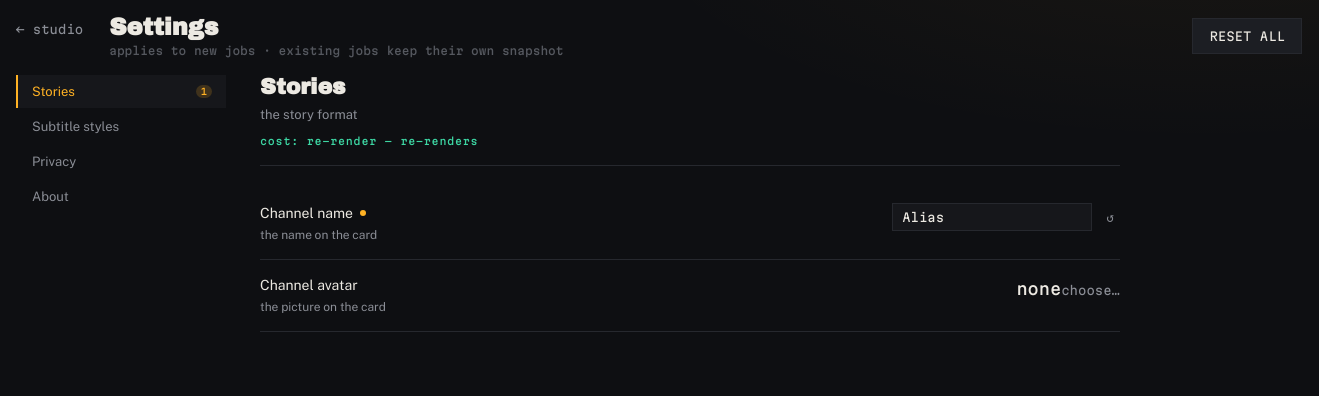
Scenario: the channel avatar is an image control in Settings (E20-F06) › shows none, picks a PNG through the avatar import, and saves the stored path
The width and height of the screenshot is (1319, 396).
Expected: the text "Channel avatar" is shown, [260,277,358,293]
Expected: the text "none" is shown, [1016,279,1061,298]
Click the button "choose…".
click(1091, 290)  # box [1061,275,1120,305]
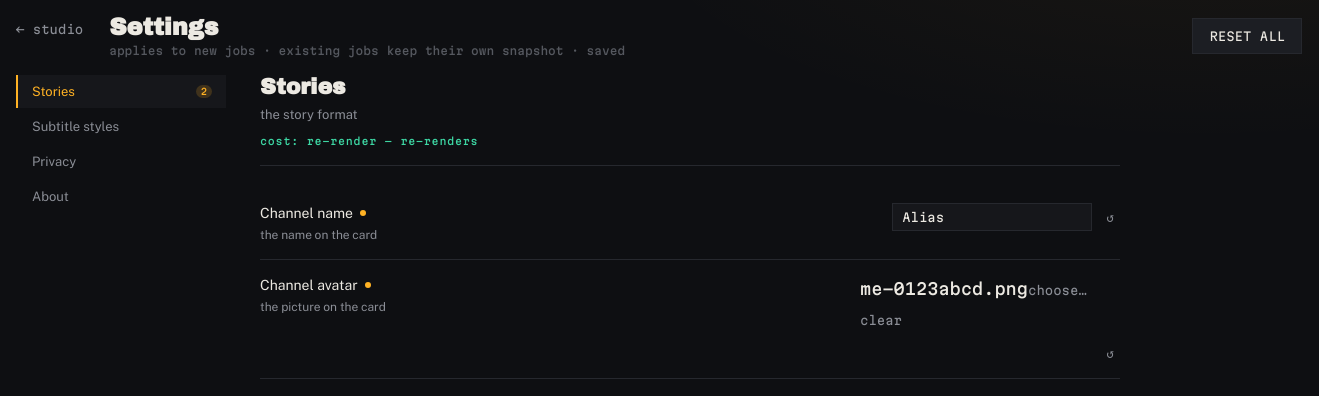
Expected: the text "me-0123abcd.png" is shown, [860,279,1028,298]
